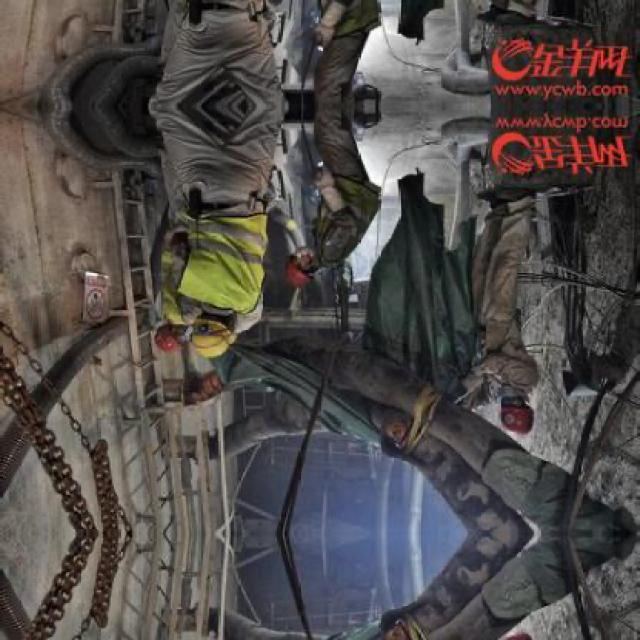con casco: (278, 217, 370, 294), (176, 293, 256, 356), (128, 303, 199, 356)
